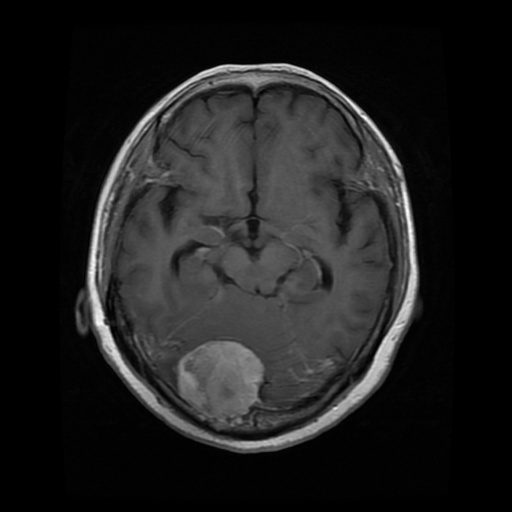meningioma: (177, 340, 265, 417)
